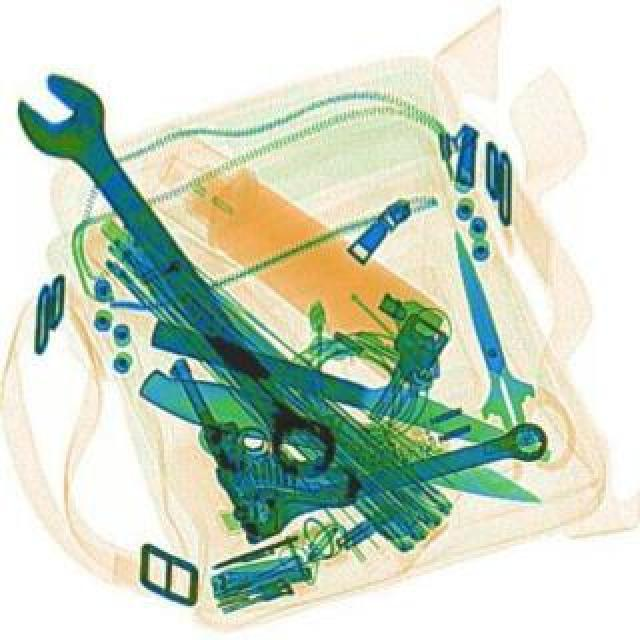gun: (166, 314, 370, 542)
knife: (134, 358, 550, 522), (150, 310, 560, 468), (432, 222, 548, 434)
scissors: (6, 58, 362, 490), (232, 412, 556, 540)
